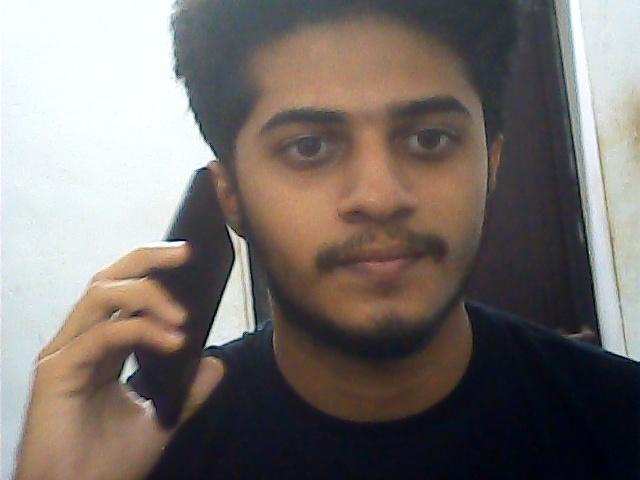PhoneUse: (142, 163, 234, 419)
SafeDriving: (386, 106, 472, 168), (265, 115, 355, 172)
